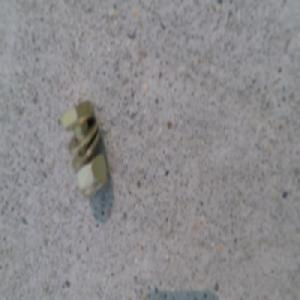BoltNutSet: (62, 99, 106, 193)
